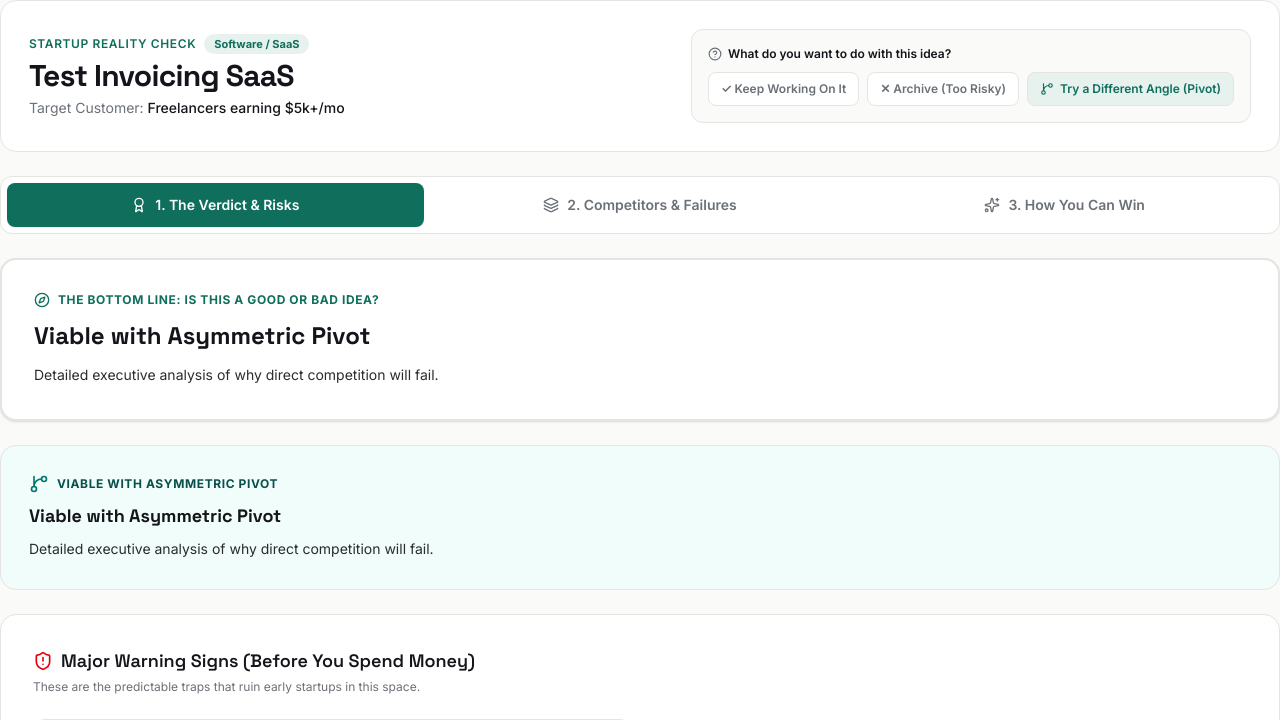
Test: ReportView Component › opens the pivot modal when 'Try a Different Angle' is clicked
This screenshot has width=1280, height=720.
Click the button "Try a Different Angle (Pivot)".
click(1131, 89)  # box left=1027, top=72, right=1234, bottom=106
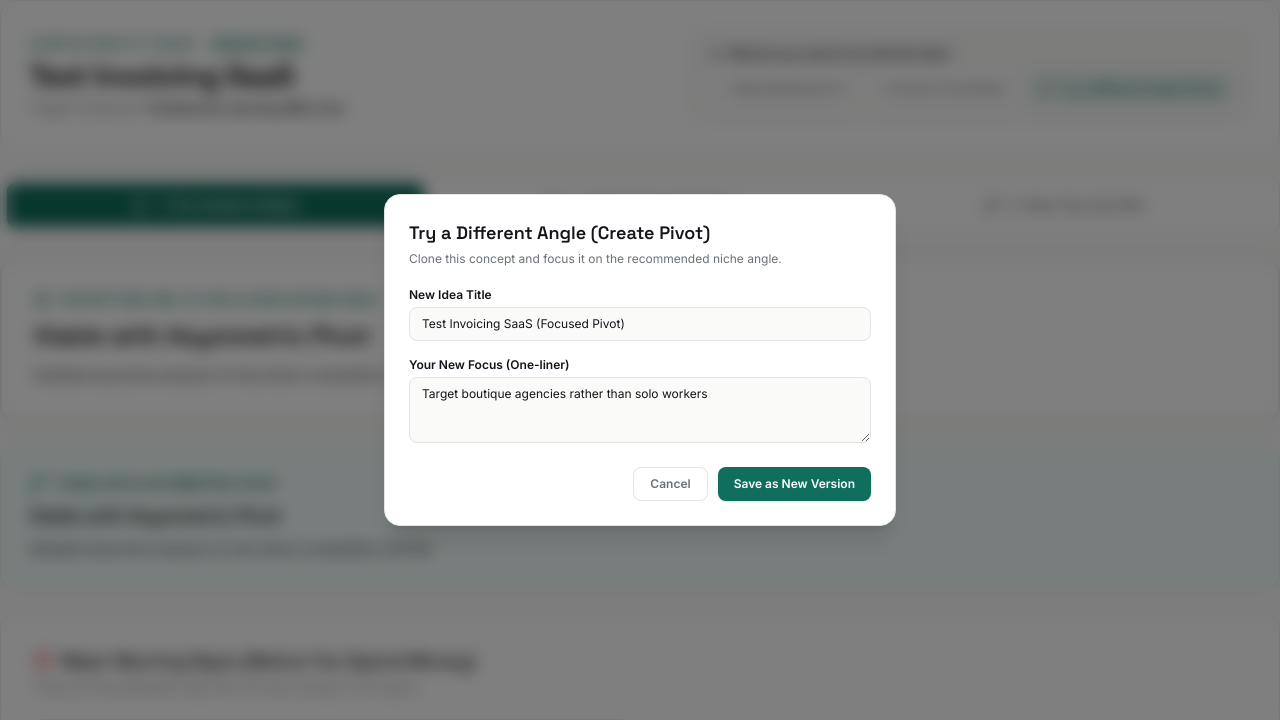
Expected: the dialog is shown
Expected: the heading "Try a Different Angle (Create Pivot)" is shown, left=409, top=221, right=710, bottom=244
